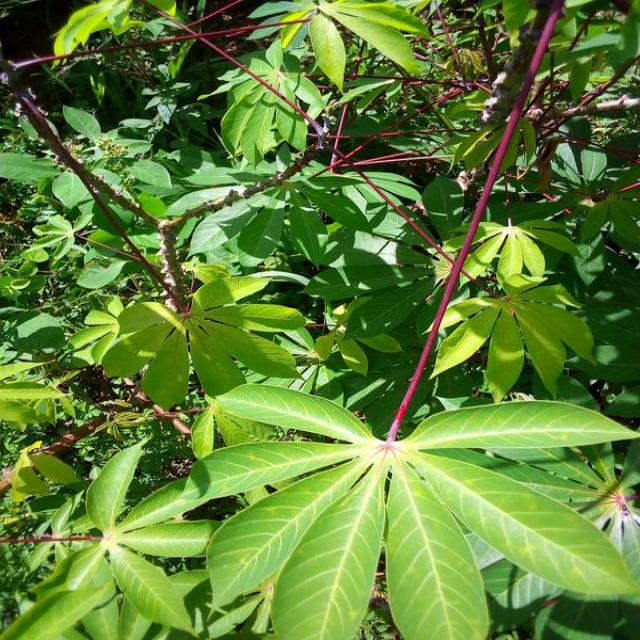cassava leaf: (1, 1, 638, 638), (183, 381, 638, 638)
